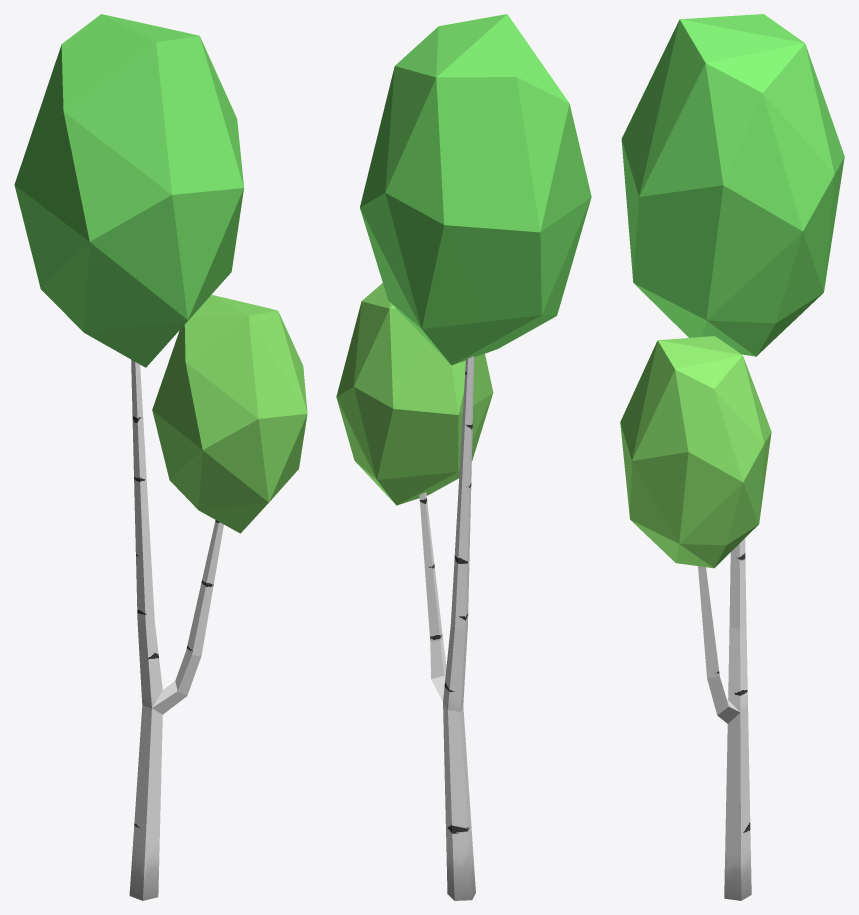
File: Birch_Tree_m_01.glb
The picture shows the model from 3 angles, left to right: view 1: azimuth 30°, elevation 25°; view 2: azimuth 150°, elevation 25°; view 3: azimuth 270°, elevation 25°; orthographic projection.
Parts seen in each view (by area): view 1: Birch_Tree_m_01; view 2: Birch_Tree_m_01; view 3: Birch_Tree_m_01.
Part boxes in pixels (x1,y1,x2,y2): Birch_Tree_m_01: (14, 14, 307, 900); Birch_Tree_m_01: (336, 14, 591, 900); Birch_Tree_m_01: (620, 14, 844, 900).
Bounding box in the file's own units: 2.64 × 9.24 × 2.17.
Materials: 1 (1 with a texture image).
